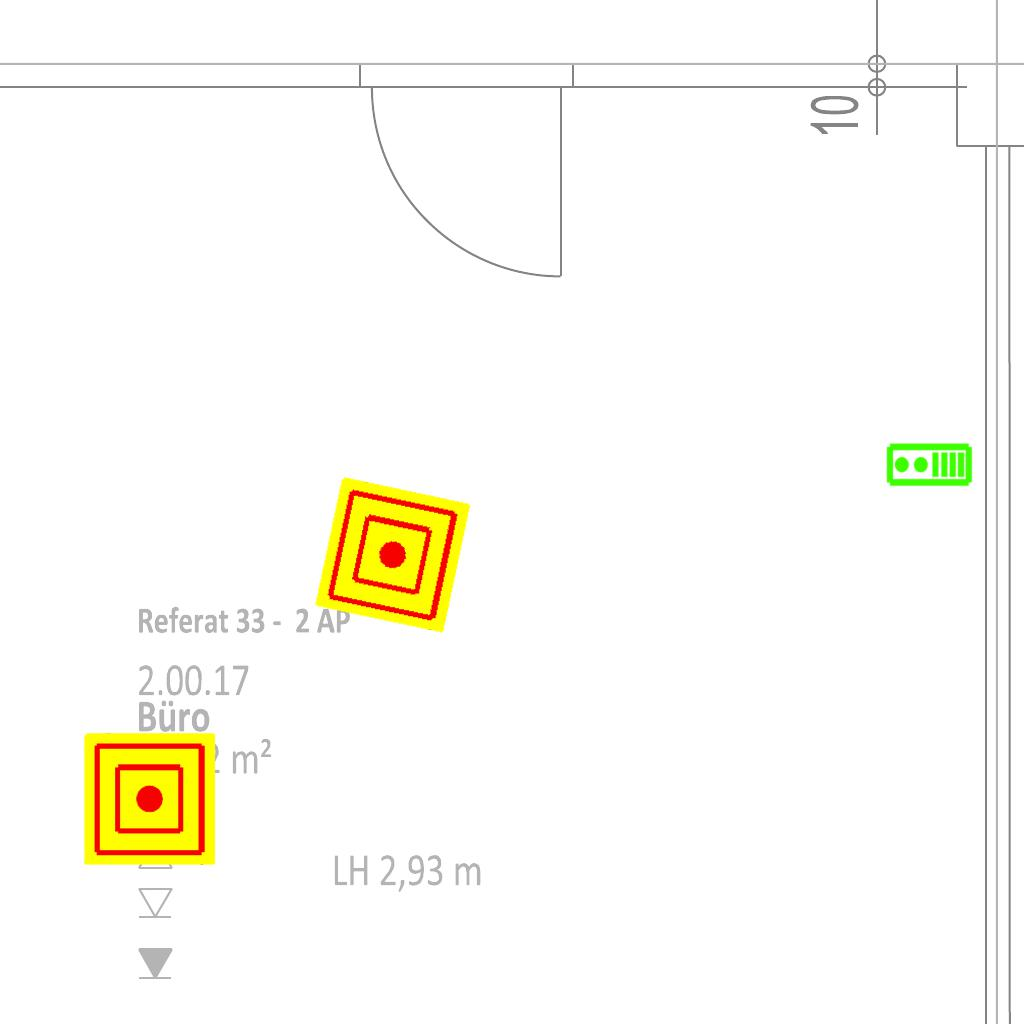Gegensprechanlage_mit_Video: (885, 442, 973, 489)
NAM-Nichtautomatischer_Melder: (314, 476, 472, 634), (84, 733, 216, 865)
